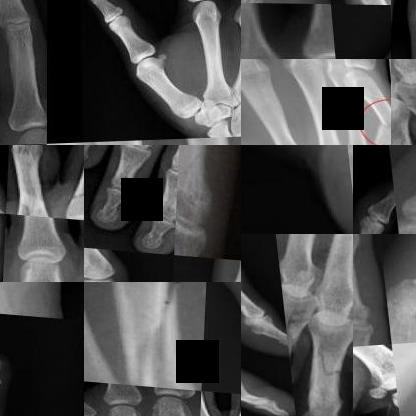fracture: (95, 282, 197, 386), (304, 341, 345, 394), (280, 303, 314, 363), (398, 86, 415, 145), (367, 109, 390, 143), (399, 301, 415, 346), (68, 165, 83, 207), (391, 124, 413, 144), (231, 257, 240, 282), (0, 193, 9, 211)
